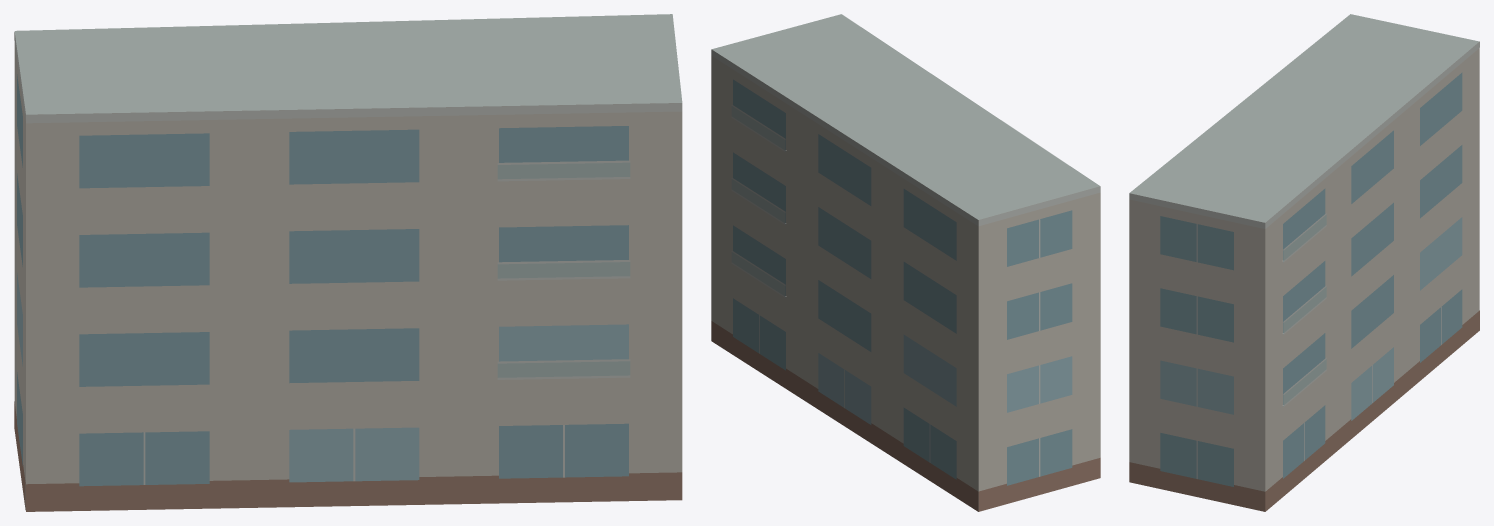
File: survey-upis-32734743.glb
3 views of the same model, side by side, from view 1: azimuth 30°, elevation 25°; view 2: azimuth 150°, elevation 25°; view 3: azimuth 270°, elevation 25° (orthographic). The views are drawn at different scales.
Visible parts, largest first — view 1: survey-upis-32734743.tmp; view 2: survey-upis-32734743.tmp; view 3: survey-upis-32734743.tmp.
Boxes of the visible parts, x1,y1,x2,y2 form: survey-upis-32734743.tmp: (14,14,682,511); survey-upis-32734743.tmp: (711,14,1100,511); survey-upis-32734743.tmp: (1129,14,1479,511).
Size of the model in its own units: 17.44 by 11.25 by 12.37.
